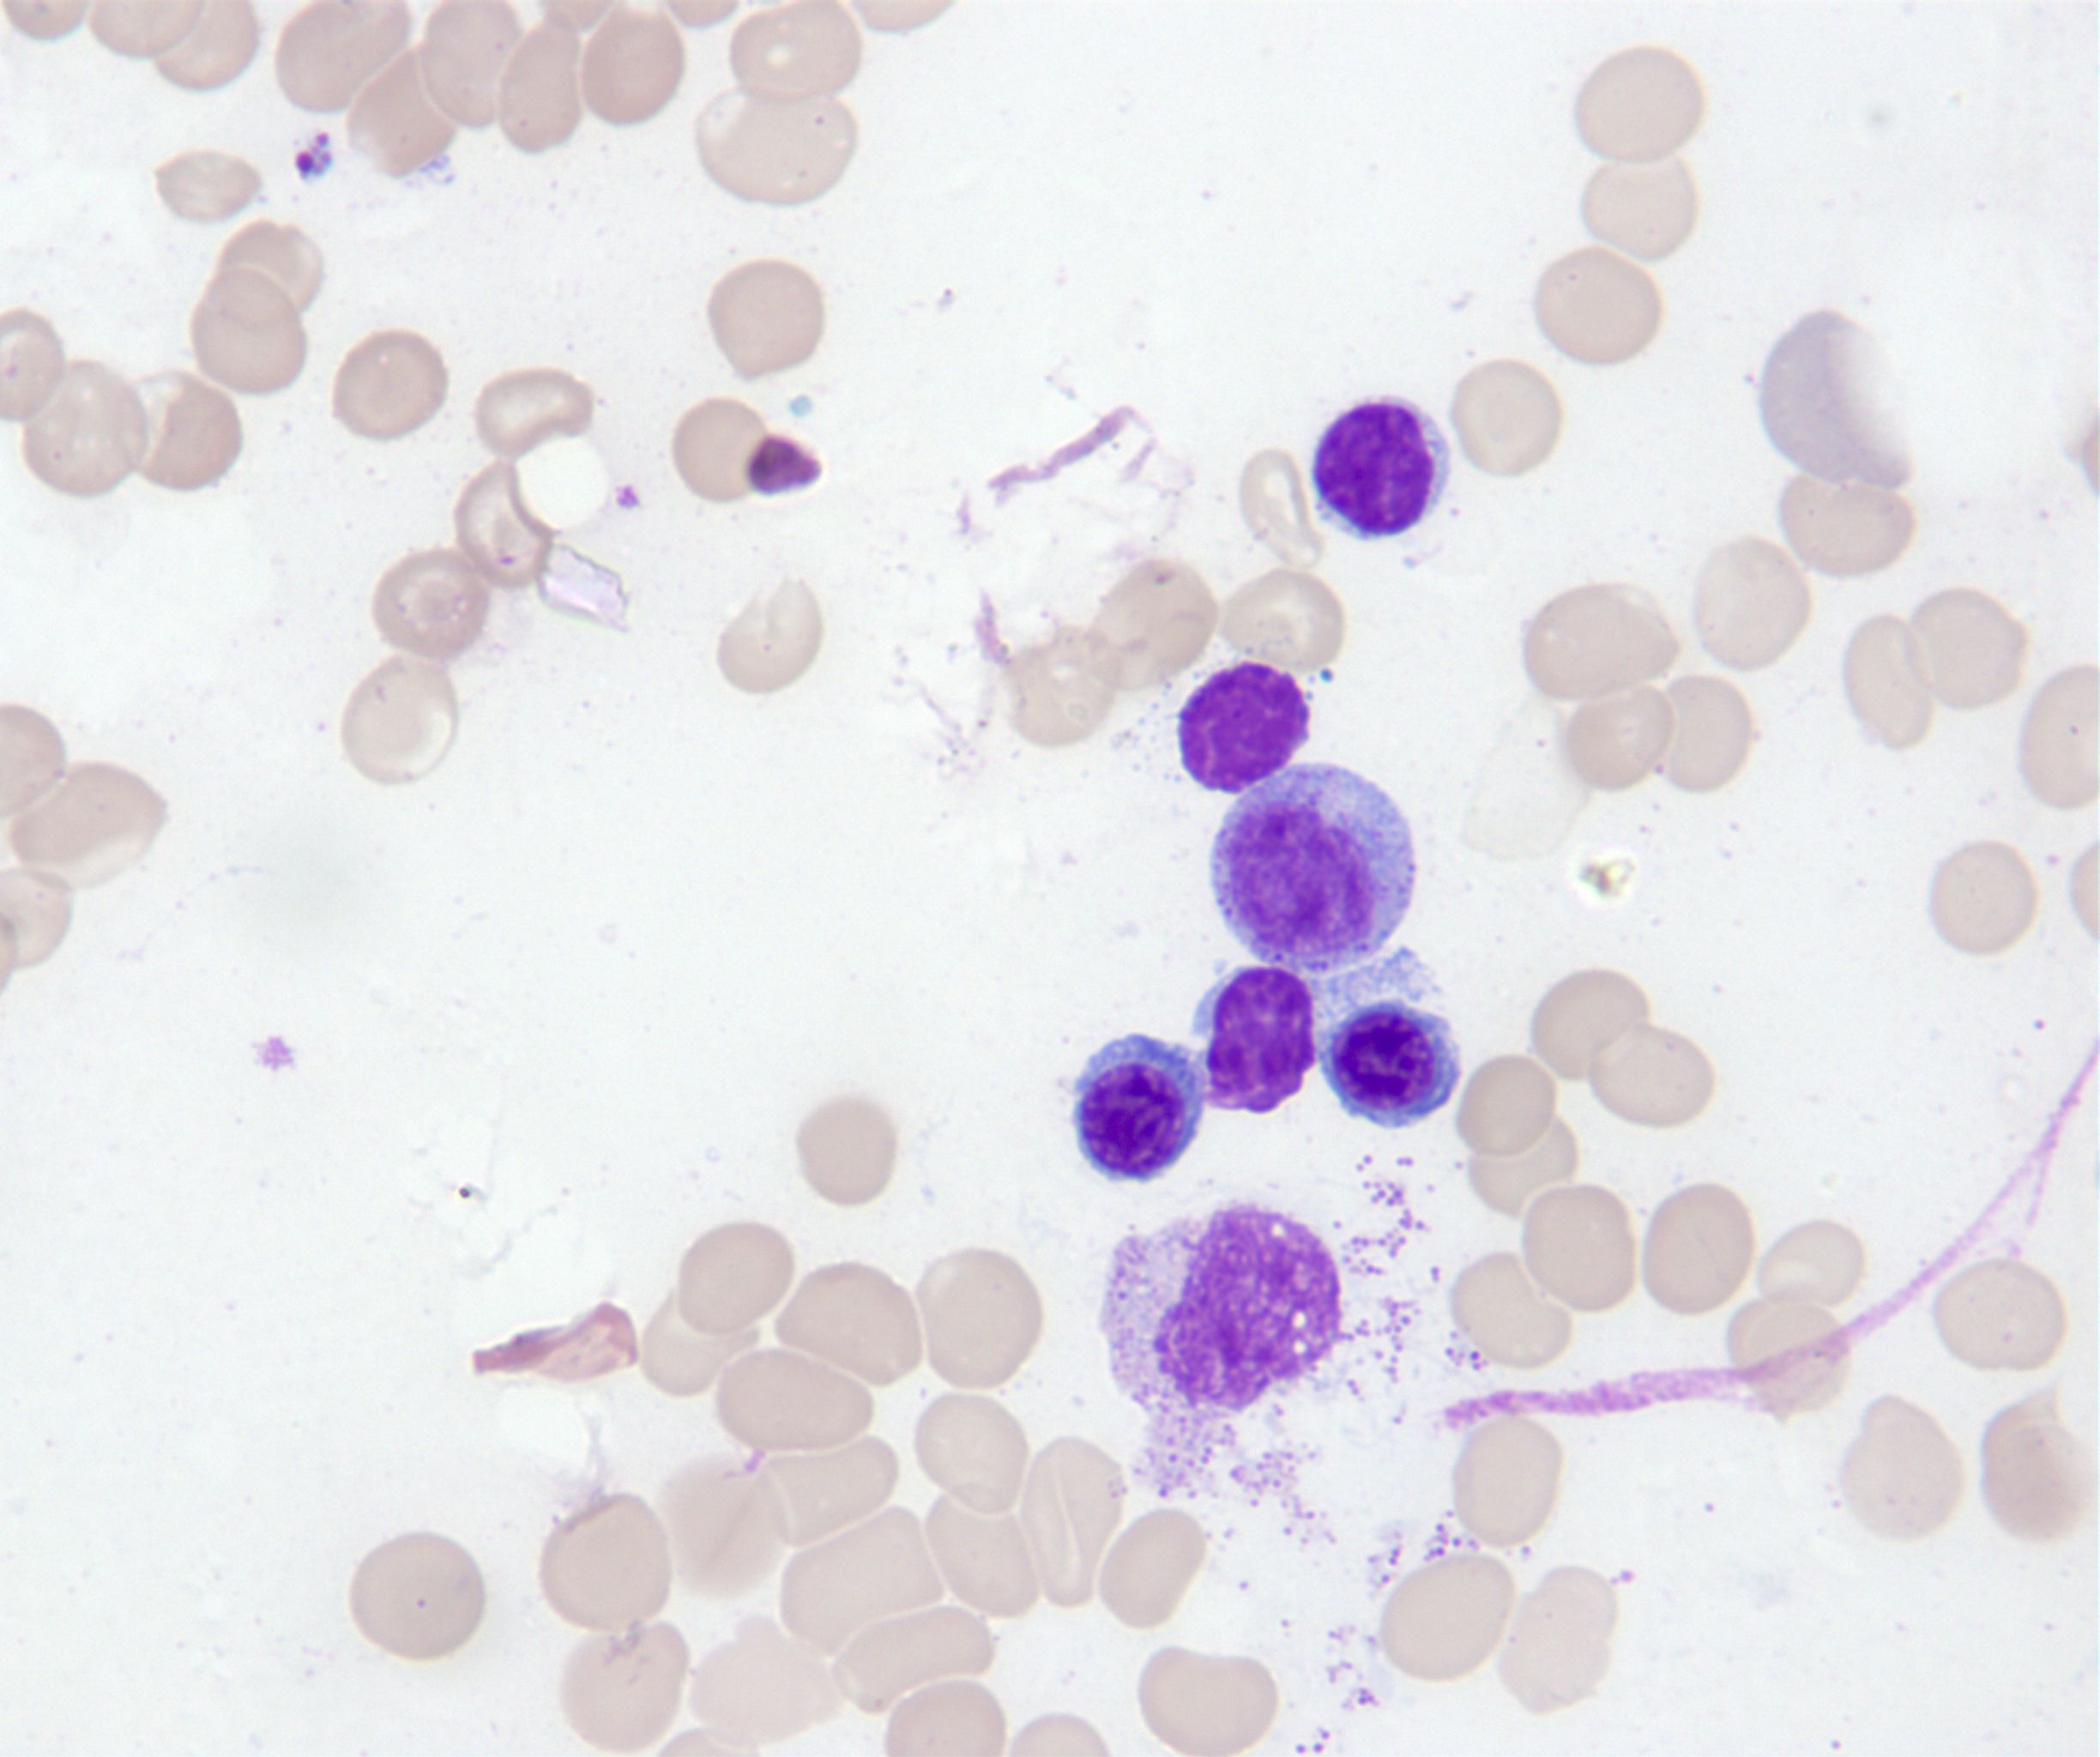23: (1074, 1031, 1200, 1185), (1319, 1000, 1460, 1131)
3: (1210, 764, 1415, 972)
32: (1313, 394, 1449, 539), (1193, 965, 1315, 1115)
x: (1102, 1204, 1341, 1495), (1177, 663, 1312, 794)
